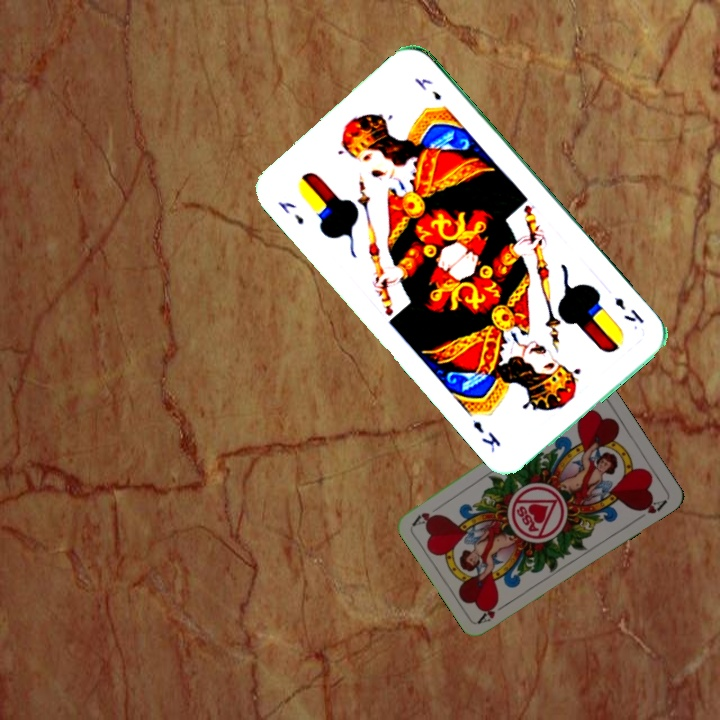EK: (610, 294, 647, 327), (274, 197, 307, 228)
HA: (475, 598, 511, 626)
